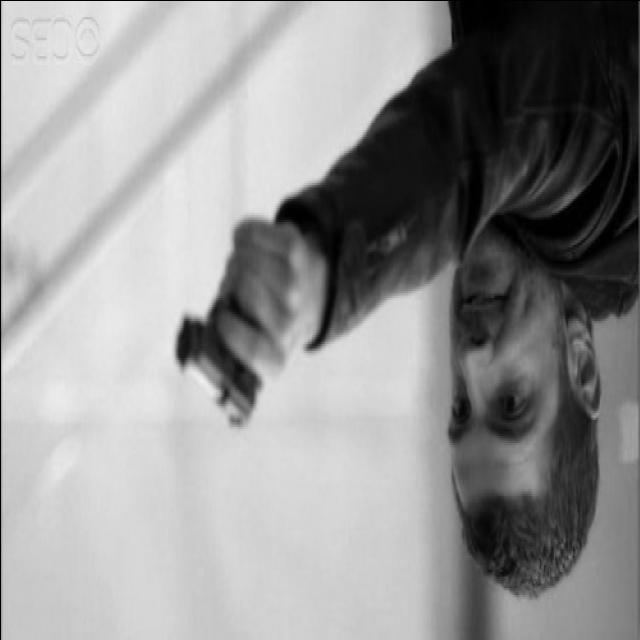weapons: (165, 222, 276, 436)
